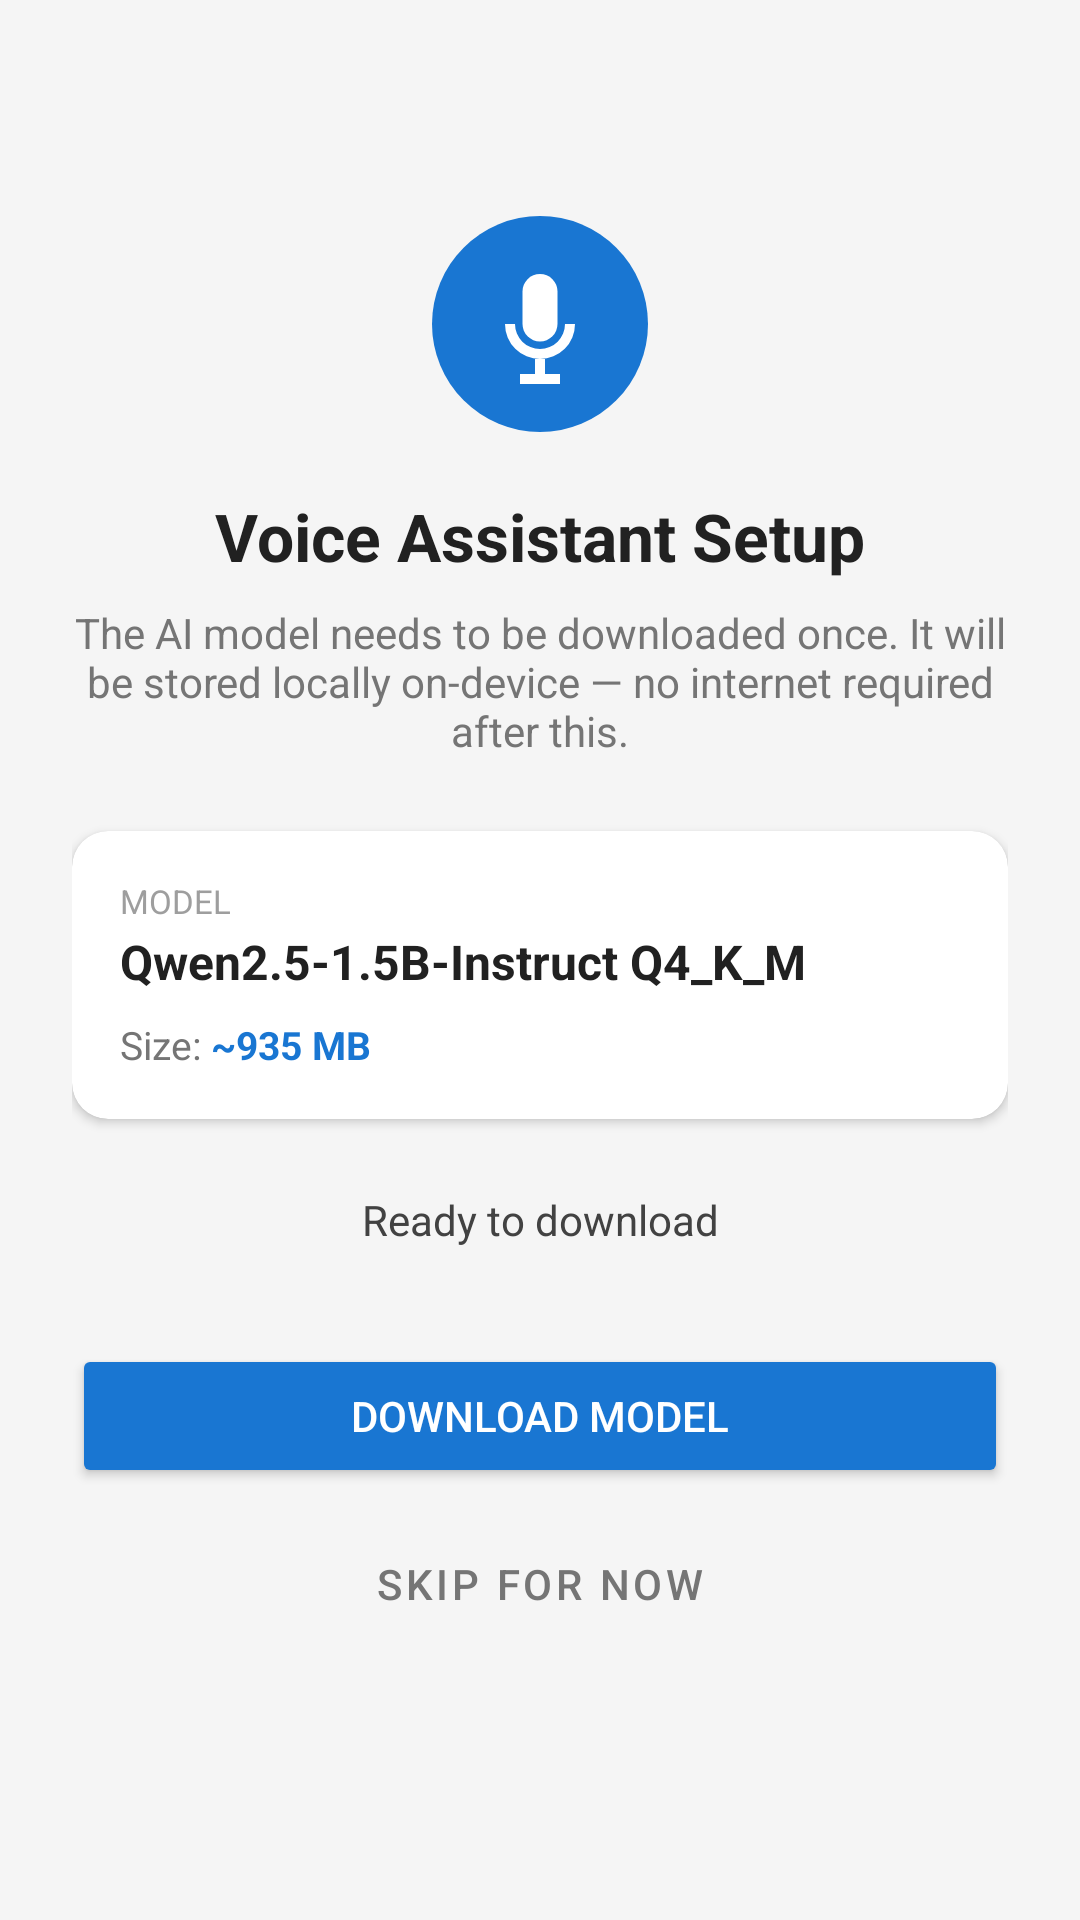

Icons on this 1080 x 1920 Android screen, each with its box as (x1, y1, x2, y2):
mic: (432, 216, 648, 432)
